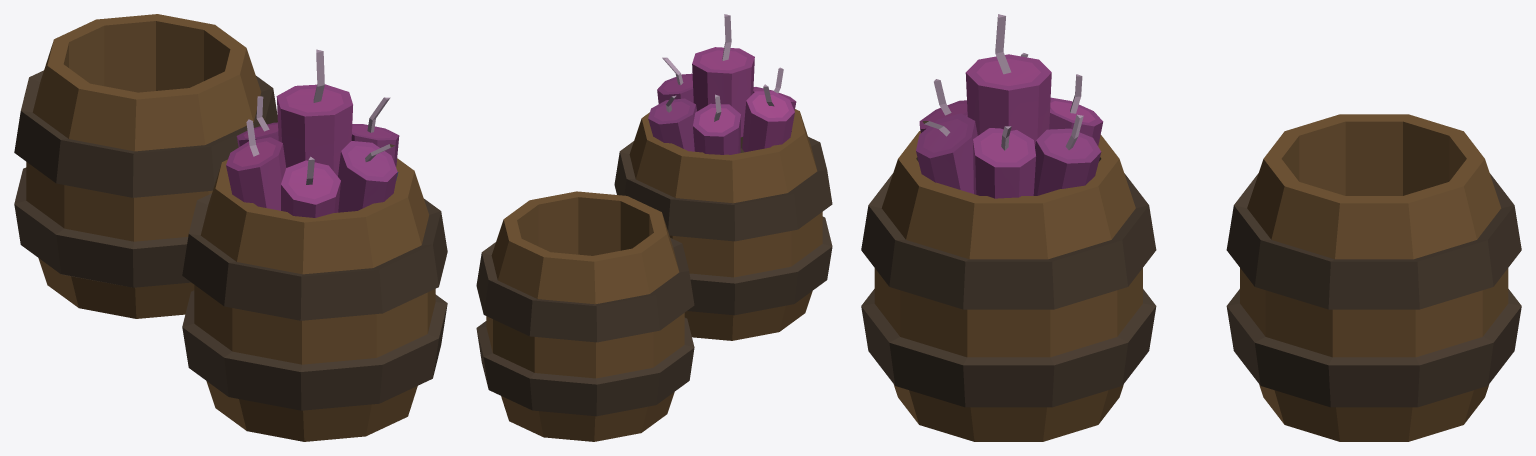
The model's file is Barril.fbx.
3 views of the same model, side by side, from view 1: azimuth 30°, elevation 25°; view 2: azimuth 150°, elevation 25°; view 3: azimuth 270°, elevation 25° (orthographic). The views are drawn at different scales.
Parts seen in each view (by area): view 1: Barril, Barril.002; view 2: Barril.002, Barril; view 3: Barril, Barril.002.
Part boxes in pixels (left/top/right/bottom): Barril: left=182, top=49, right=447, bottom=441; Barril.002: left=14, top=14, right=277, bottom=318; Barril.002: left=476, top=191, right=694, bottom=441; Barril: left=614, top=14, right=832, bottom=340; Barril: left=861, top=14, right=1156, bottom=441; Barril.002: left=1226, top=114, right=1521, bottom=441.
Bounding box in the file's own units: 569 × 854 × 1340.
Materials: 4 (1 with a texture image).
